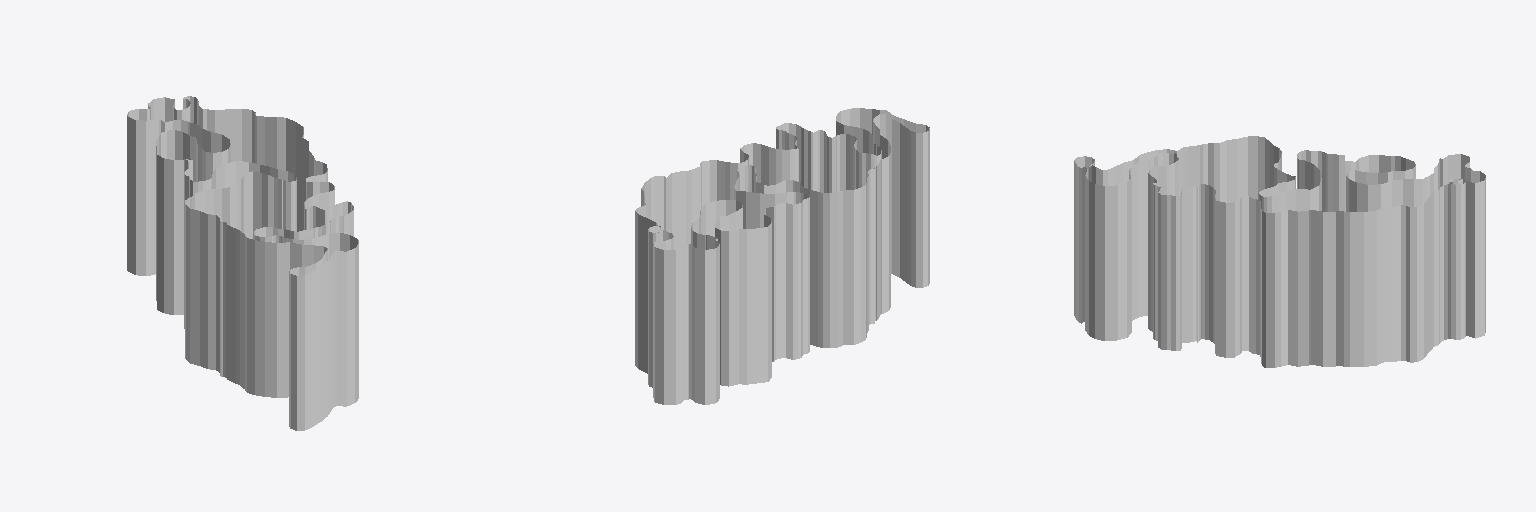
Rendered from m26colcol.obj.
3 views of the same model, side by side, from view 1: azimuth 30°, elevation 25°; view 2: azimuth 150°, elevation 25°; view 3: azimuth 270°, elevation 25° (orthographic).
Visible parts, largest first — view 1: m26.001; view 2: m26.001; view 3: m26.001.
Boxes of the visible parts, box(x1,y1,x2,y2) form: m26.001: box(127, 96, 358, 430); m26.001: box(635, 108, 929, 404); m26.001: box(1074, 136, 1485, 367).
Bounding box in the file's own units: 299 × 299 × 650.